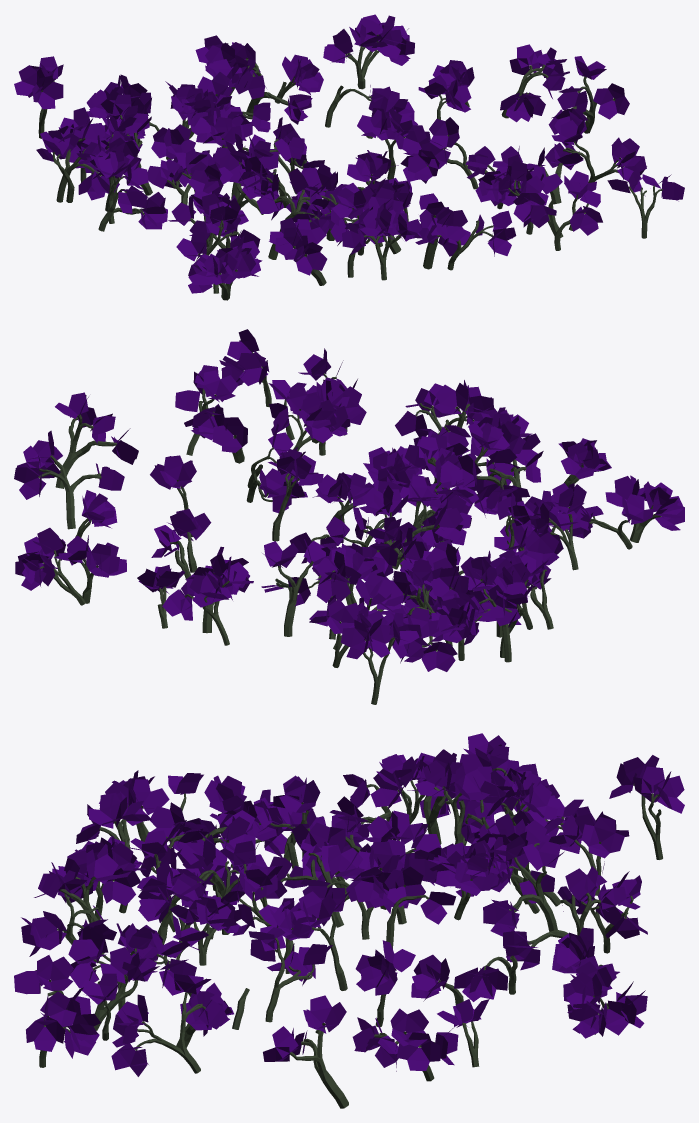
File: Violet.fbx
3 renders of one model, top to bottom at view 1: azimuth 30°, elevation 25°; view 2: azimuth 150°, elevation 25°; view 3: azimuth 270°, elevation 25°, orthographic. The views are drawn at different scales.
Parts seen in each view (by area): view 1: violet1Flower, violet1Main; view 2: violet1Flower, violet1Main; view 3: violet1Flower, violet1Main.
Boxes of the visible parts, <box> form: violet1Flower: <box>14,14,684,293</box>; violet1Main: <box>38,34,662,300</box>; violet1Flower: <box>14,329,684,671</box>; violet1Main: <box>38,352,661,704</box>; violet1Flower: <box>14,733,684,1076</box>; violet1Main: <box>39,767,662,1108</box>.
Size of the model in its own units: 1.48 by 0.2379 by 1.42.
